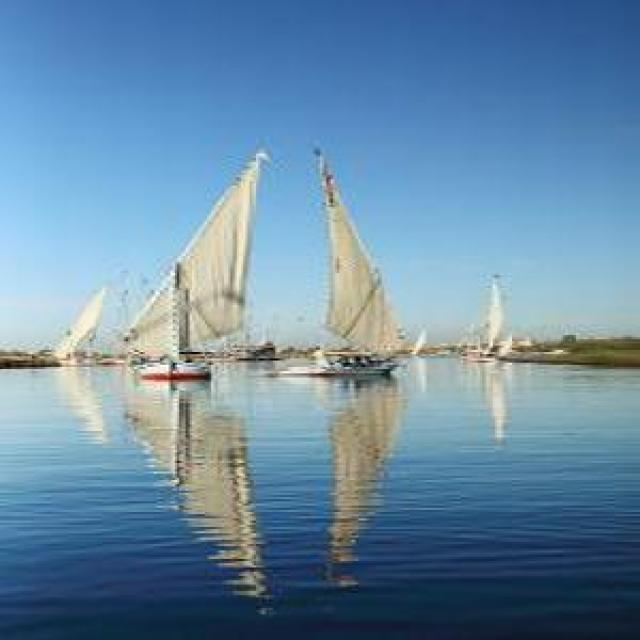sailboat: (121, 149, 260, 380), (302, 143, 412, 376), (47, 276, 113, 366), (456, 268, 516, 364), (406, 318, 434, 362)
